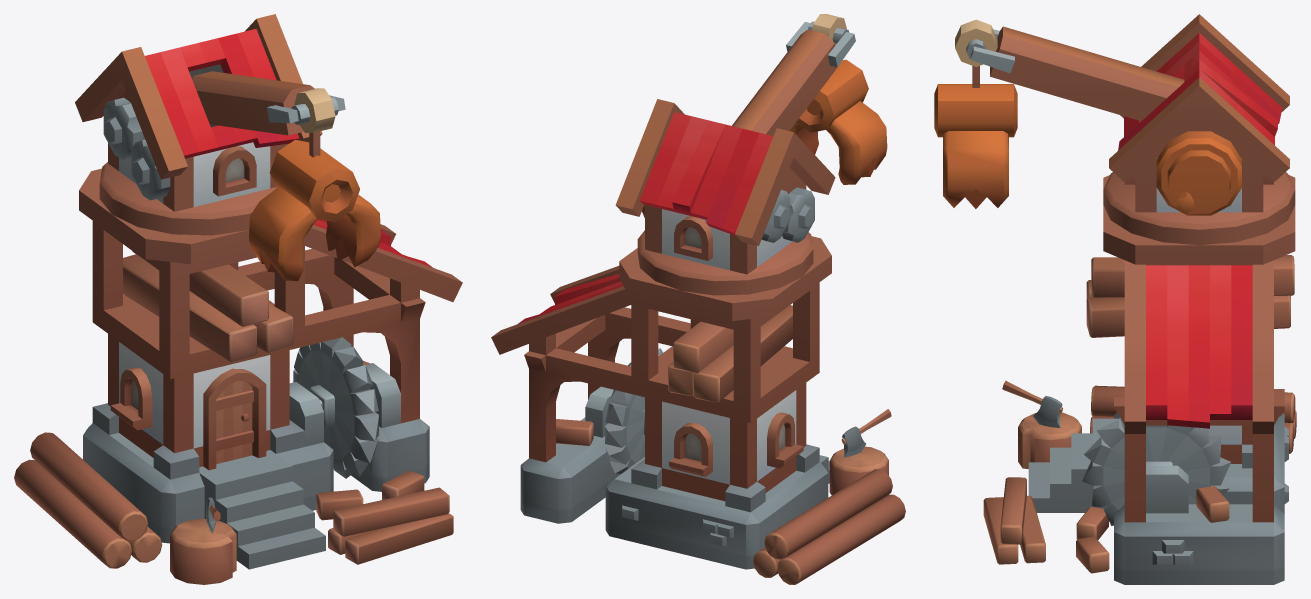
File: lumbermill_red.glb
3 views of the same model, side by side, from view 1: azimuth 30°, elevation 25°; view 2: azimuth 150°, elevation 25°; view 3: azimuth 270°, elevation 25° (orthographic). The views are drawn at different scales.
Visible parts, largest first — view 1: building_lumbermill_red, building_lumbermill_top_red, building_lumbermill_saw_red; view 2: building_lumbermill_red, building_lumbermill_top_red, building_lumbermill_saw_red; view 3: building_lumbermill_red, building_lumbermill_top_red, building_lumbermill_saw_red.
Part boxes in pixels (left/top/right/bottom): building_lumbermill_red: left=14, top=168, right=462, bottom=584; building_lumbermill_top_red: left=75, top=14, right=380, bottom=280; building_lumbermill_saw_red: left=293, top=337, right=378, bottom=478; building_lumbermill_red: left=491, top=236, right=905, bottom=584; building_lumbermill_top_red: left=615, top=14, right=887, bottom=295; building_lumbermill_saw_red: left=605, top=348, right=662, bottom=474; building_lumbermill_red: left=983, top=175, right=1296, bottom=584; building_lumbermill_top_red: left=934, top=14, right=1295, bottom=245; building_lumbermill_saw_red: left=1082, top=417, right=1231, bottom=525.
Size of the model in its own units: 1.37 by 1.71 by 1.19.
Materials: 1 (1 with a texture image).
